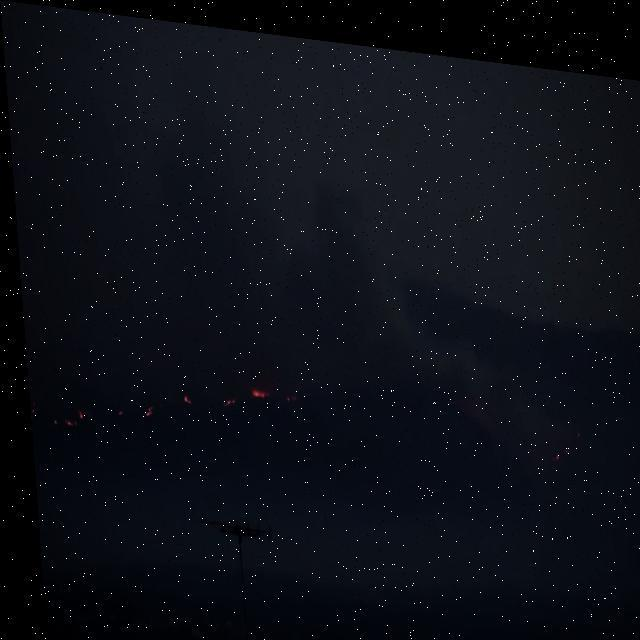Fire: (244, 382, 265, 396), (138, 397, 149, 416), (56, 415, 72, 427), (216, 392, 230, 404), (176, 388, 188, 402), (72, 408, 78, 418)
